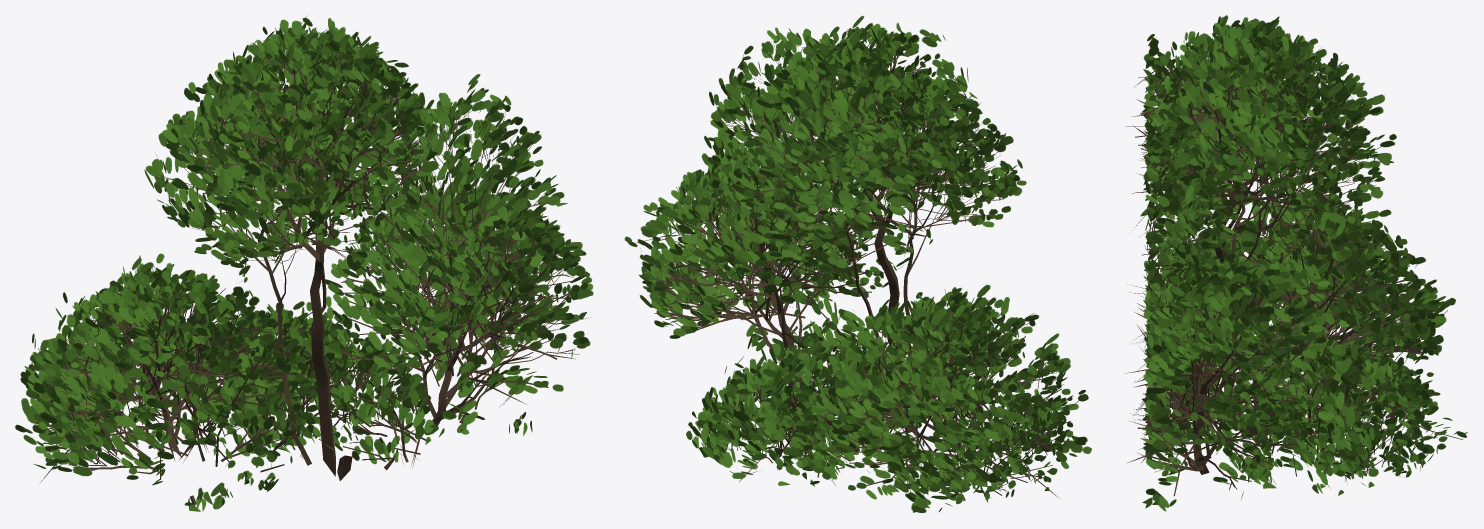
3 renders of one model, left to right at view 1: azimuth 30°, elevation 25°; view 2: azimuth 150°, elevation 25°; view 3: azimuth 270°, elevation 25°, orthographic. The views are drawn at different scales.
Parts seen in each view (by area): view 1: oak 01.001_trunk_Mat.001_0.475; view 2: oak 01.001_trunk_Mat.001_0.475; view 3: oak 01.001_trunk_Mat.001_0.475.
Part boxes in pixels (x1,y1,x2,y2): oak 01.001_trunk_Mat.001_0.475: (15, 16, 593, 511); oak 01.001_trunk_Mat.001_0.475: (624, 16, 1091, 512); oak 01.001_trunk_Mat.001_0.475: (1125, 15, 1467, 511).
Bounding box in the file's own units: 5.53 × 4.56 × 3.37.
Materials: 2 (1 with a texture image).
